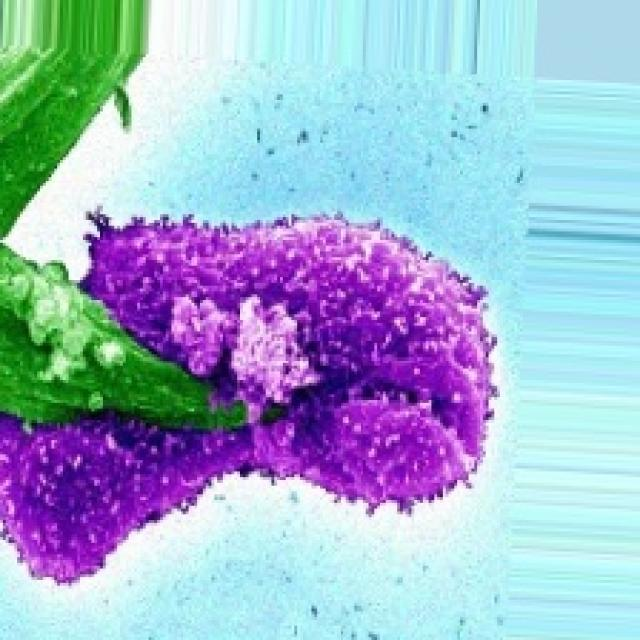Amoeba: (0, 205, 497, 586)
